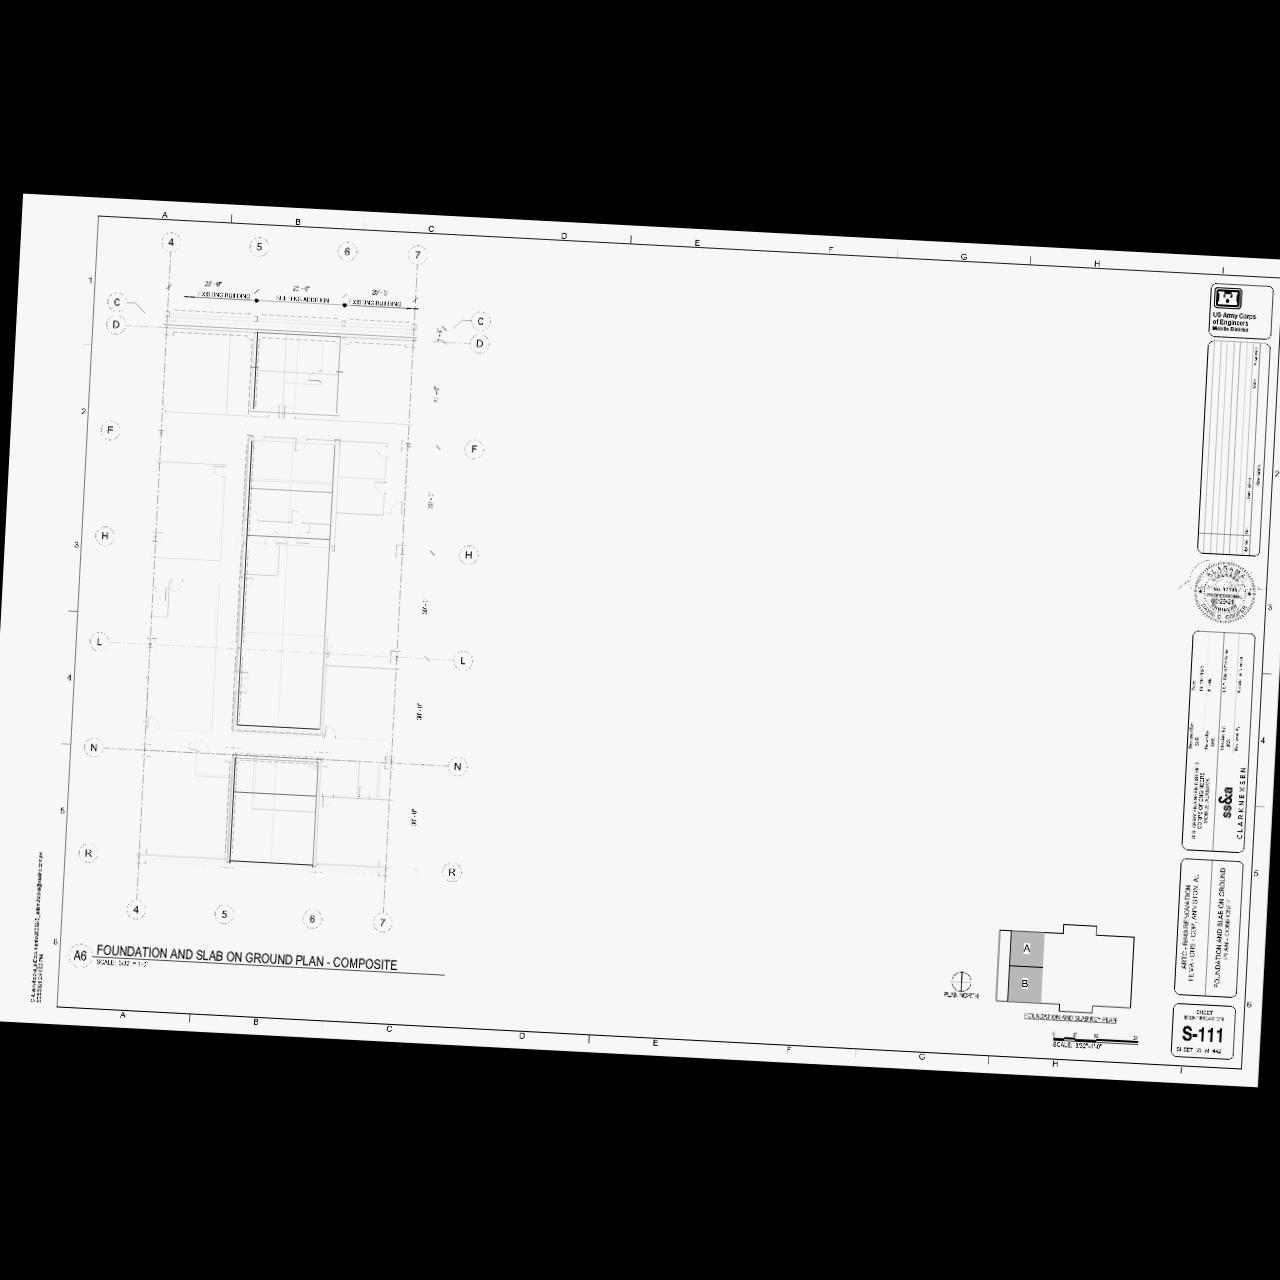title: (66, 934, 451, 991)
